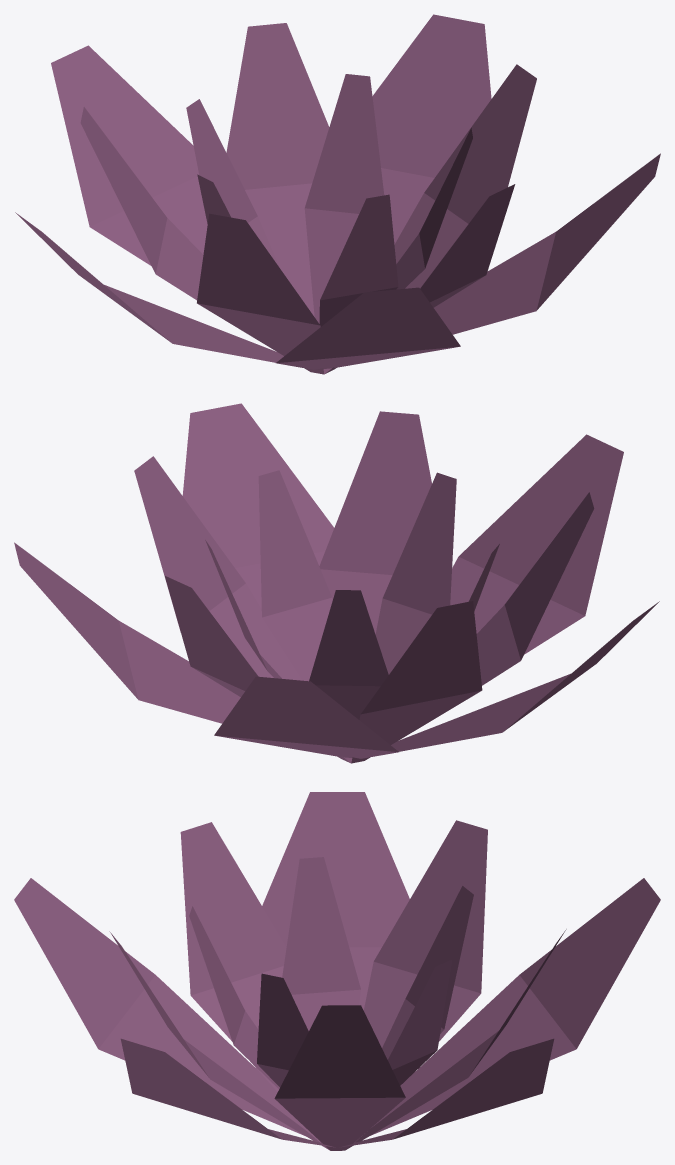
File: goodSmall_flowerB.FBX
3 views of the same model, one above another, from view 1: azimuth 30°, elevation 25°; view 2: azimuth 150°, elevation 25°; view 3: azimuth 270°, elevation 25° (orthographic). The views are drawn at different scales.
Parts seen in each view (by area): view 1: goodSmall_flowerB; view 2: goodSmall_flowerB; view 3: goodSmall_flowerB.
Part boxes in pixels (box(x1,y1,x2,y2)): goodSmall_flowerB: box(15, 14, 660, 374); goodSmall_flowerB: box(14, 403, 659, 763); goodSmall_flowerB: box(14, 792, 660, 1150).
Bounding box in the file's own units: 148 × 63.63 × 155.
